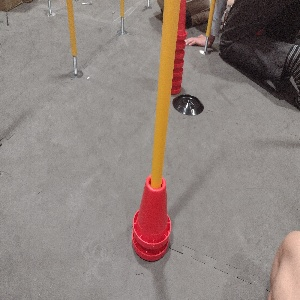Red_2: (129, 171, 173, 263)
